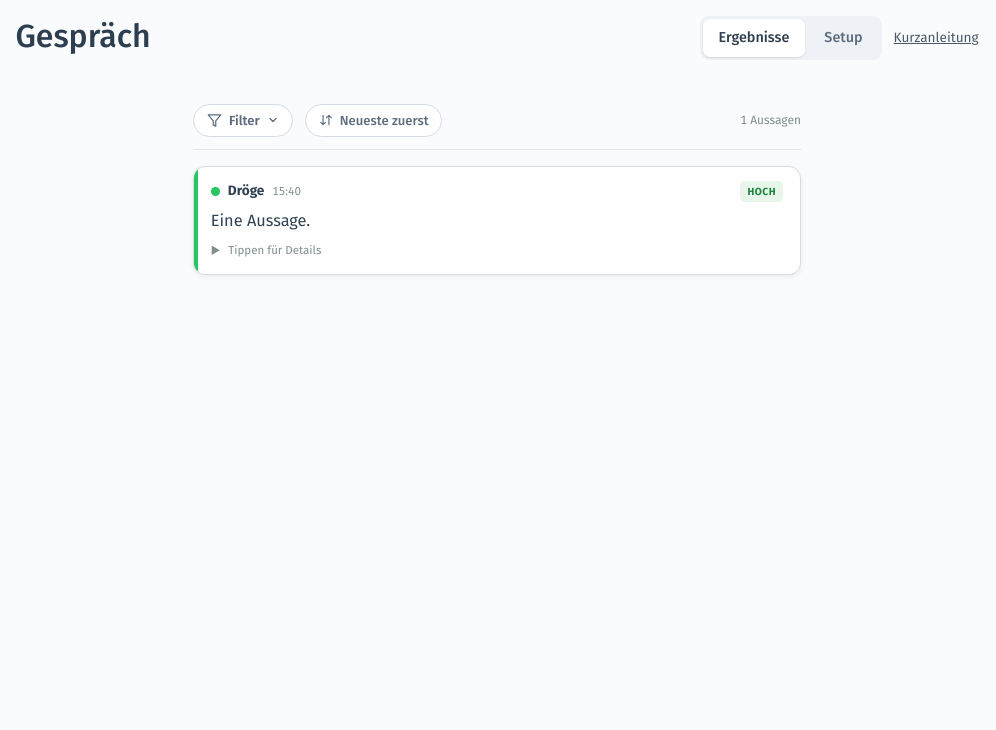
Test: FactCheckPage: resuming a session with results › switches between results and the setup (source pick), starting only from the setup
Expected: the text "Eine Aussage." is shown, [211, 211, 310, 230]
Click the radio button labelled "Setup" at (843, 38), box [808, 19, 879, 57]
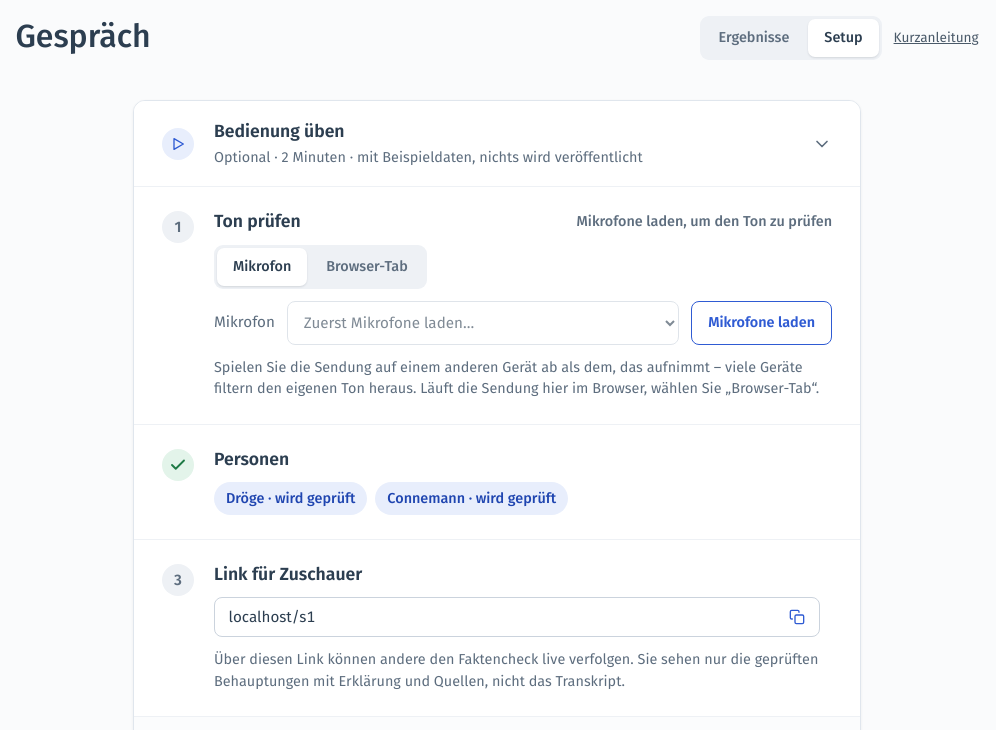
Now the button "Eine Aussage." is gone
Click the radio button labelled "Ergebnisse" at (754, 38), box [702, 19, 805, 57]
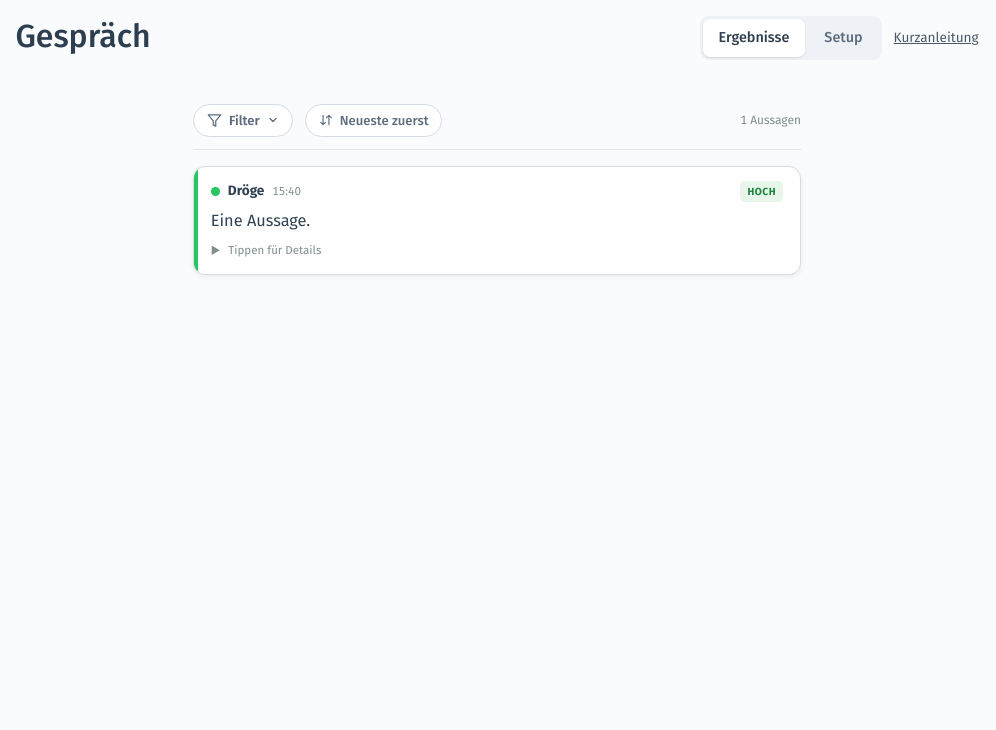
Now the text "Eine Aussage." is shown, box [211, 211, 310, 230]
